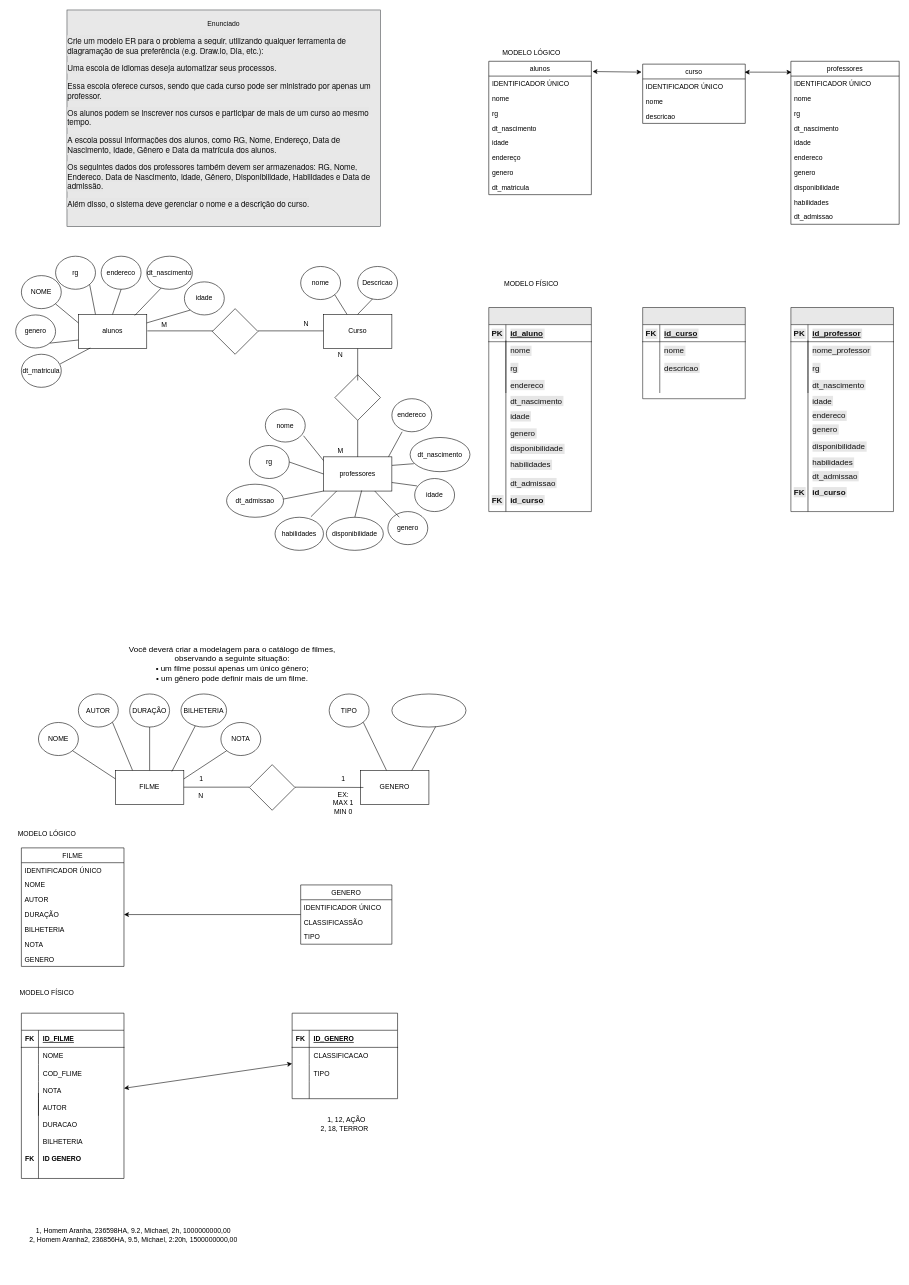
The diagram is 909 pixels wide and 1285 high, and some of its shapes have lost their labels. The box of each missing label's shape, as (x1, y1, x2, y2) in pixels:
CLASSIFICAÇÃO: (391, 693, 466, 727)
Cursa: (212, 308, 258, 354)
escola_aluno: (488, 307, 591, 512)
escola_curso: (642, 307, 745, 399)
escola_professores: (790, 307, 893, 512)
Lessiona: (334, 374, 380, 420)
LETSFLIX_FILME: (21, 1013, 124, 1178)
LETSFLIX_GENERO: (292, 1013, 398, 1099)
POSSUI: (249, 764, 295, 810)
